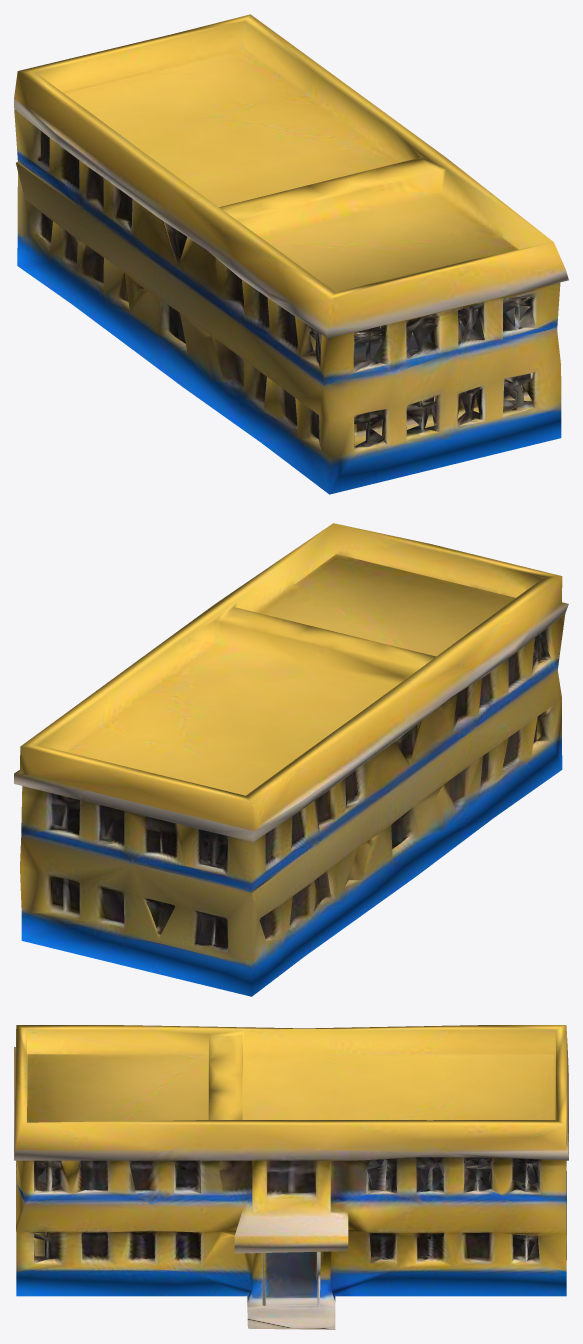
File: escola.glb
The picture shows the model from 3 angles, top to bottom: view 1: azimuth 30°, elevation 25°; view 2: azimuth 150°, elevation 25°; view 3: azimuth 270°, elevation 25°; orthographic projection. The views are drawn at different scales.
Visible parts, largest first — view 1: tripo_node_baf77a3f-4509-4032-9fd2-8b5eb41851bb; view 2: tripo_node_baf77a3f-4509-4032-9fd2-8b5eb41851bb; view 3: tripo_node_baf77a3f-4509-4032-9fd2-8b5eb41851bb.
Boxes of the visible parts, left/top/right/bottom form: tripo_node_baf77a3f-4509-4032-9fd2-8b5eb41851bb: left=14, top=14, right=568, bottom=494; tripo_node_baf77a3f-4509-4032-9fd2-8b5eb41851bb: left=14, top=523, right=568, bottom=996; tripo_node_baf77a3f-4509-4032-9fd2-8b5eb41851bb: left=14, top=1025, right=568, bottom=1329.
Bounding box in the file's own units: 0.5805 × 0.3415 × 1.
Materials: 1 (1 with a texture image).
